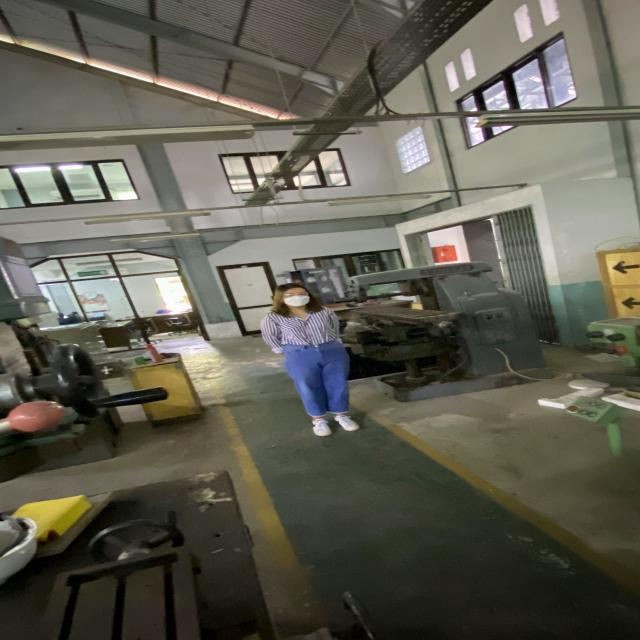face_mask: (280, 288, 314, 306)
glasses: (284, 290, 312, 300)
head_nohelmet: (275, 280, 311, 293)
shoes: (333, 410, 367, 433), (305, 416, 334, 438)
